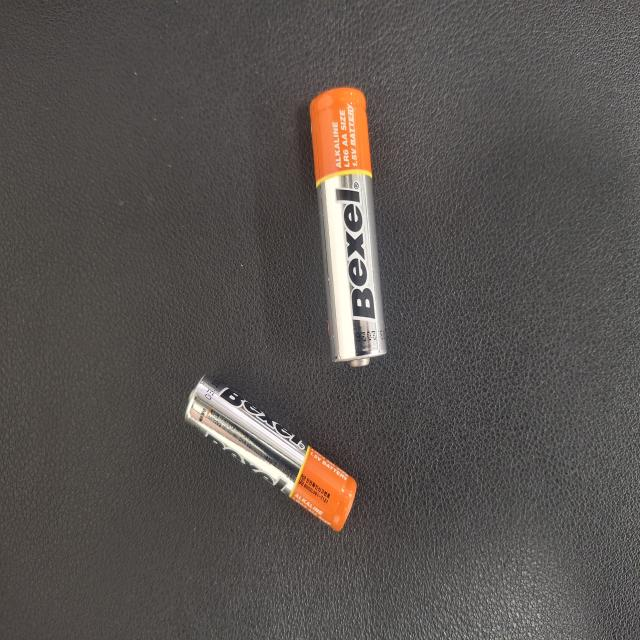AA: (67, 337, 276, 439)
AAA: (276, 380, 398, 608)
